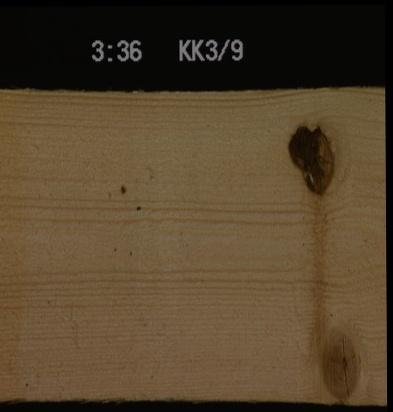edge_knot: (318, 328, 360, 400)
small_knot: (118, 182, 127, 194)
